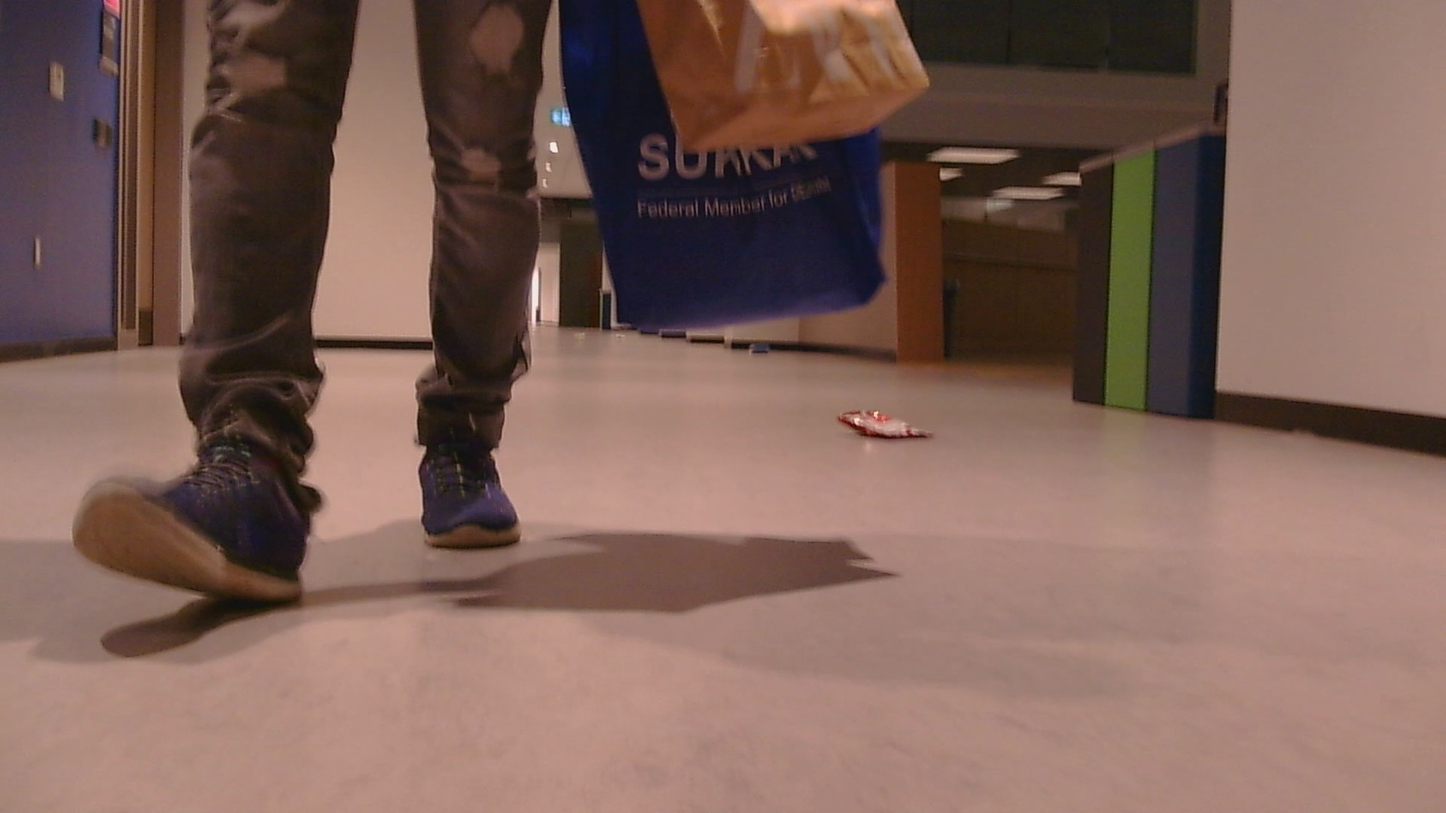carton: (836, 388, 928, 453)
